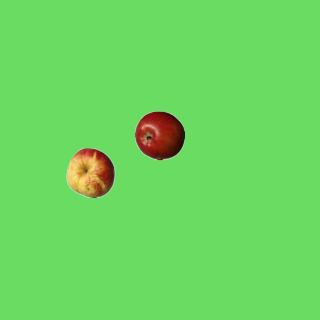Apple Braeburn: (134, 110, 184, 160)
Apple Red Yellow 1: (65, 147, 115, 197)
